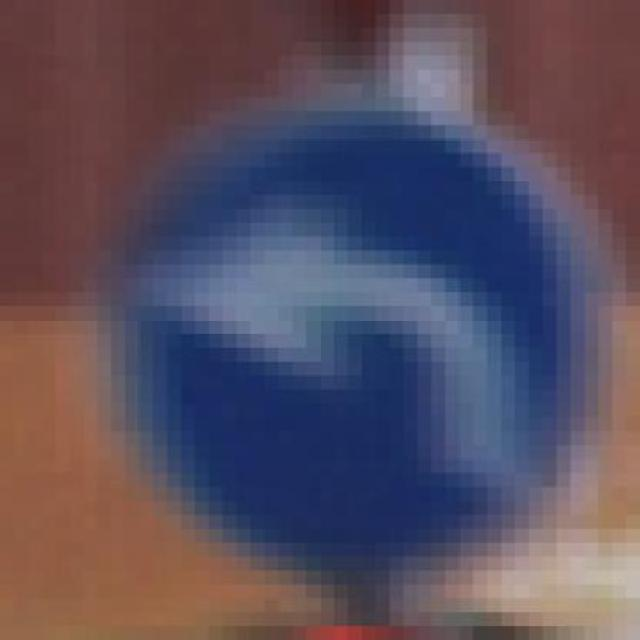Turn left ahead: (111, 97, 598, 585)
